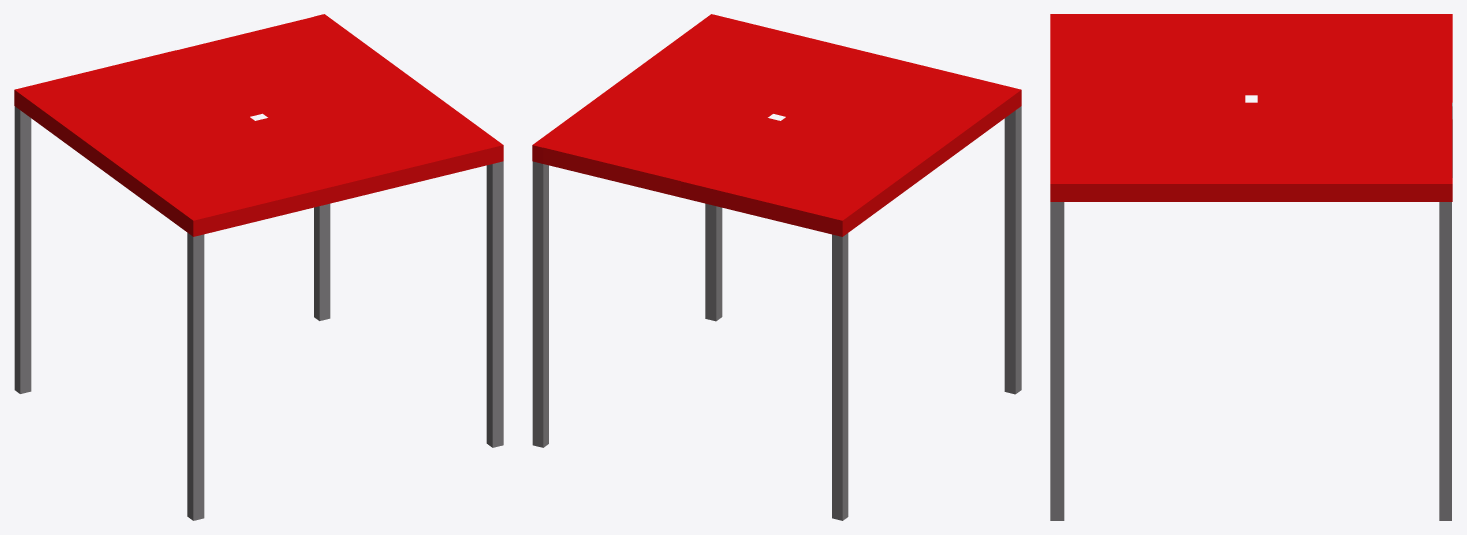
Rendered from mesa sin sombri.fbx.
3 views of the same model, side by side, from view 1: azimuth 30°, elevation 25°; view 2: azimuth 150°, elevation 25°; view 3: azimuth 270°, elevation 25° (orthographic). The views are drawn at different scales.
Visible parts, largest first — view 1: Cube; view 2: Cube; view 3: Cube.
Boxes of the visible parts, x1,y1,x2,y2 form: Cube: (14,14,503,520); Cube: (532,14,1021,520); Cube: (1050,14,1452,520).
Size of the model in its own units: 80 by 74 by 80.
